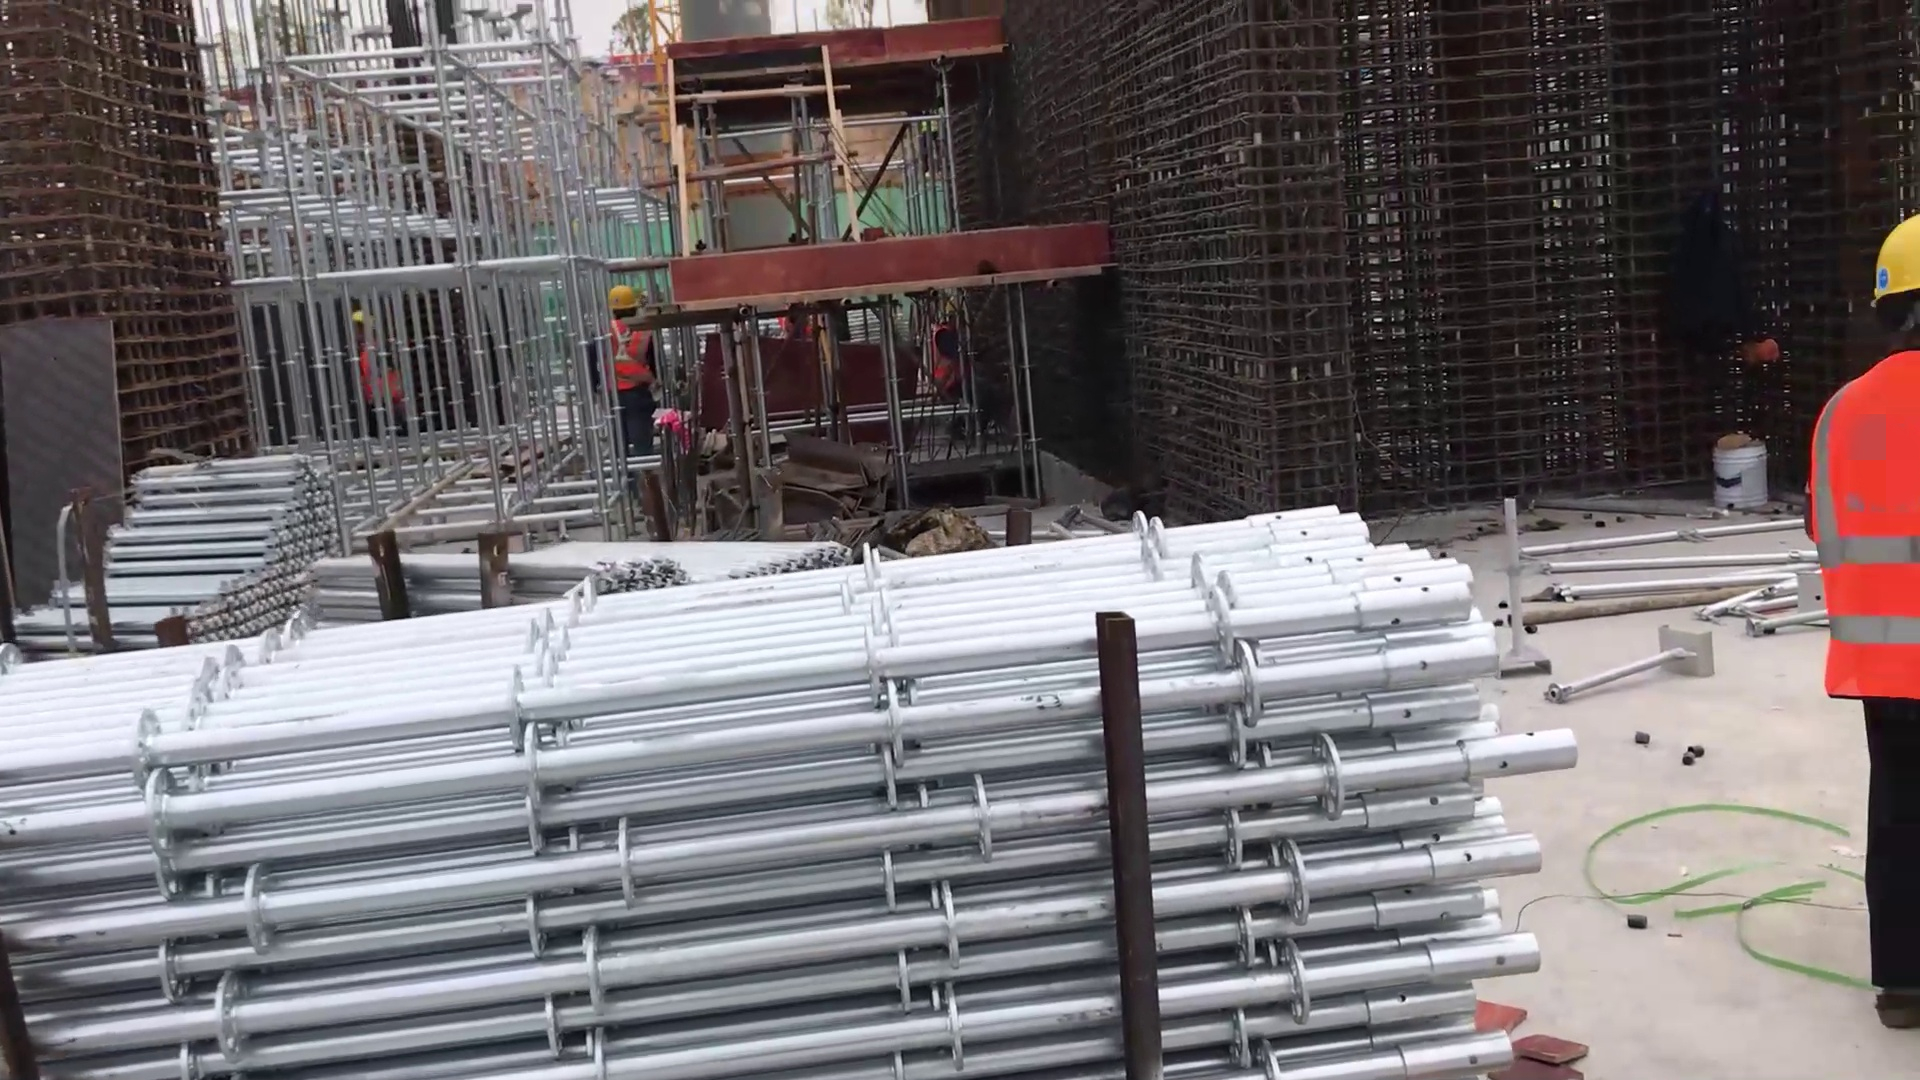helmet: (1868, 235, 1920, 315), (606, 283, 642, 313)
person: (1803, 206, 1920, 1033), (597, 277, 667, 465), (914, 280, 976, 411), (346, 309, 397, 417)
scaffold: (1, 492, 1585, 1079), (6, 450, 333, 649)
vest: (1807, 345, 1920, 713), (611, 318, 659, 400)
